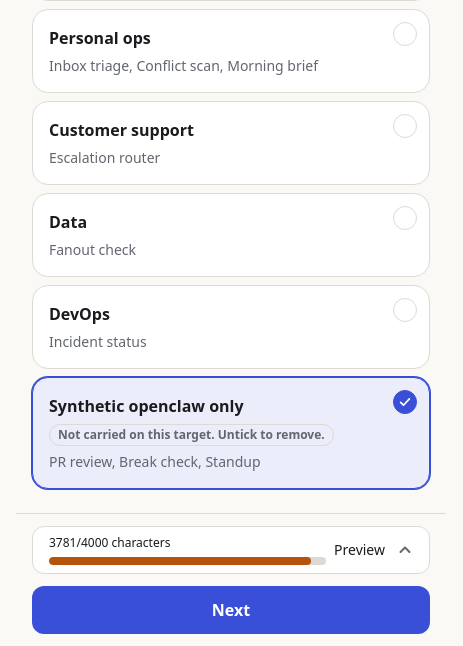
Test: a picked pack the target cannot deliver › tapping it removes it from the build and from the list
The width and height of the screenshot is (463, 646).
(page scrolled)
What coordinates should you click on to do the following:
click the button "Synthetic openclaw only"
I would click on:
 (231, 433)
Its box is [32,377,430,489].
(page scrolled)
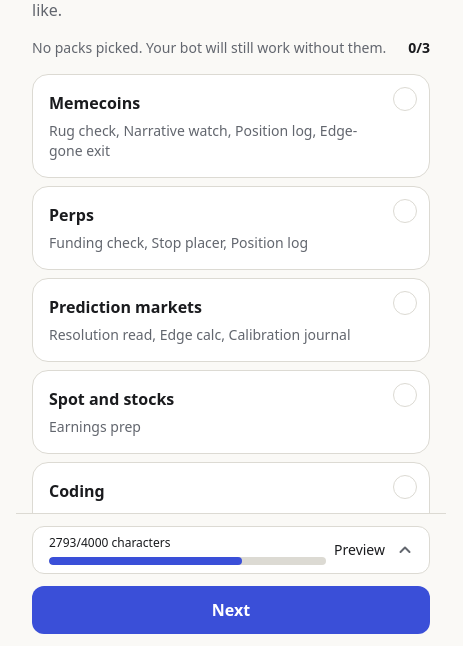
Expected: the button "Synthetic openclaw only" is gone
Expected: the text "No packs picked. Your bot will still work without them." is shown, [32,38,396,58]
